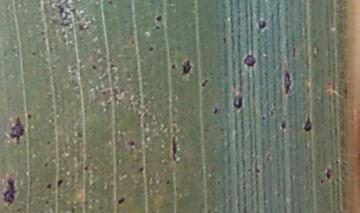tarspot: (5, 113, 27, 145), (2, 174, 15, 213), (280, 67, 294, 98), (230, 92, 245, 112), (169, 135, 179, 162), (243, 51, 257, 70), (180, 59, 194, 77), (304, 114, 314, 135), (256, 17, 269, 33), (115, 195, 128, 207), (55, 176, 66, 190), (324, 167, 333, 182), (187, 102, 200, 112), (199, 77, 210, 88), (280, 119, 288, 133), (90, 61, 100, 72), (221, 35, 229, 48), (210, 106, 220, 116), (75, 130, 85, 140), (260, 113, 270, 123), (146, 45, 157, 54), (29, 48, 38, 58), (343, 87, 349, 102), (44, 182, 55, 190), (155, 13, 164, 22), (127, 140, 138, 147), (169, 62, 178, 70), (25, 112, 34, 120), (15, 206, 25, 213), (106, 1, 116, 8), (83, 165, 92, 172), (220, 126, 227, 135), (319, 177, 326, 185), (138, 166, 146, 173), (268, 109, 275, 117), (44, 160, 50, 169), (46, 139, 52, 148), (68, 206, 77, 212), (154, 24, 161, 31), (215, 180, 222, 187), (44, 199, 51, 206), (254, 167, 260, 175), (165, 180, 172, 186), (97, 205, 105, 210)
